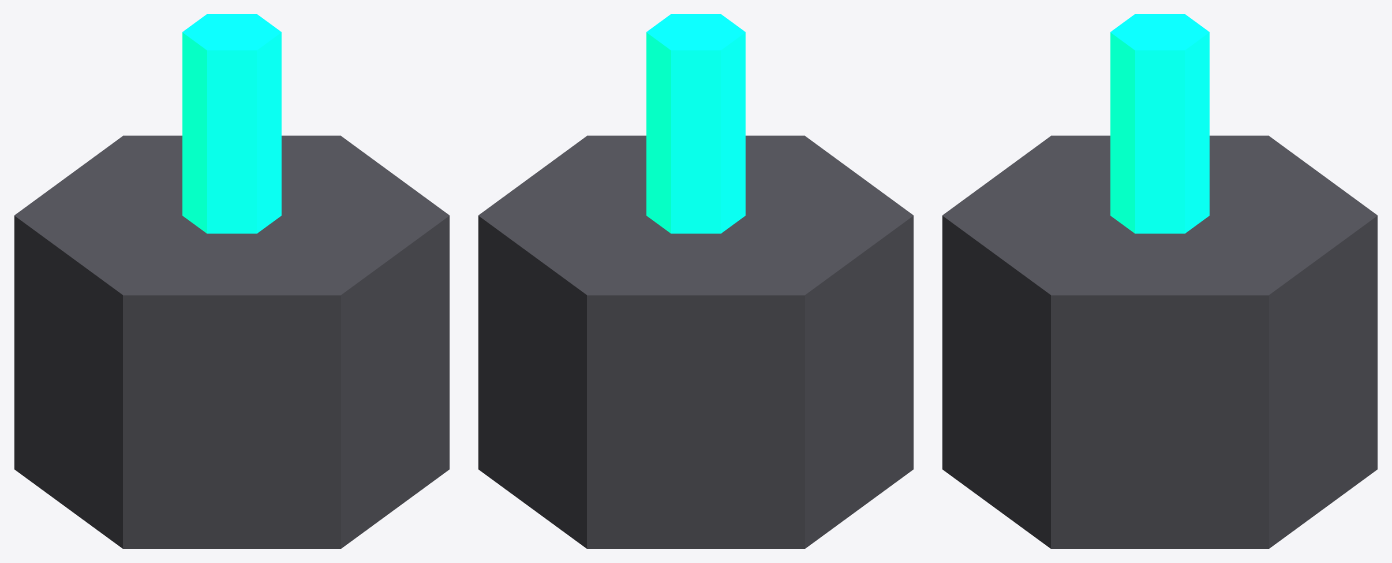
The model's file is tower_laser_lod1.glb.
3 renders of one model, left to right at view 1: azimuth 30°, elevation 25°; view 2: azimuth 150°, elevation 25°; view 3: azimuth 270°, elevation 25°, orthographic.
Visible parts, largest first — view 1: tower_laser_lod1; view 2: tower_laser_lod1; view 3: tower_laser_lod1.
Boxes of the visible parts, x1=… form: tower_laser_lod1: x1=14, y1=14, x2=449, y2=548; tower_laser_lod1: x1=478, y1=14, x2=913, y2=548; tower_laser_lod1: x1=942, y1=14, x2=1377, y2=548.
Bounding box in the file's own units: 0.6062 × 0.775 × 0.7.
